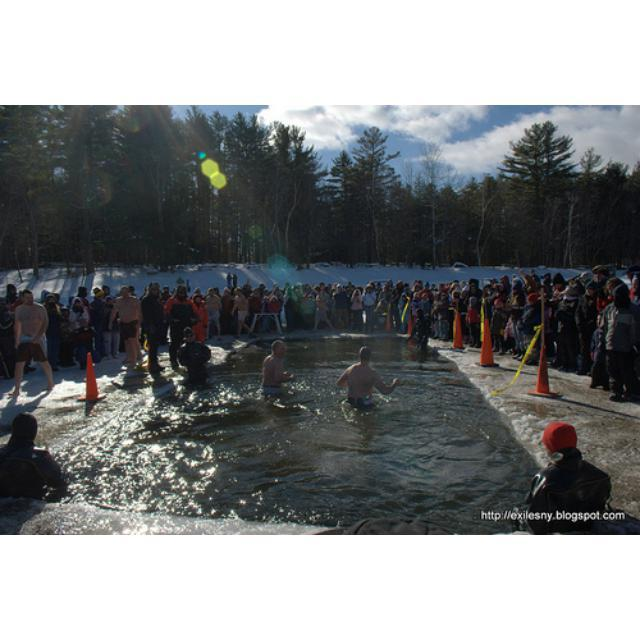human: (335, 346, 396, 403), (250, 340, 284, 392)
